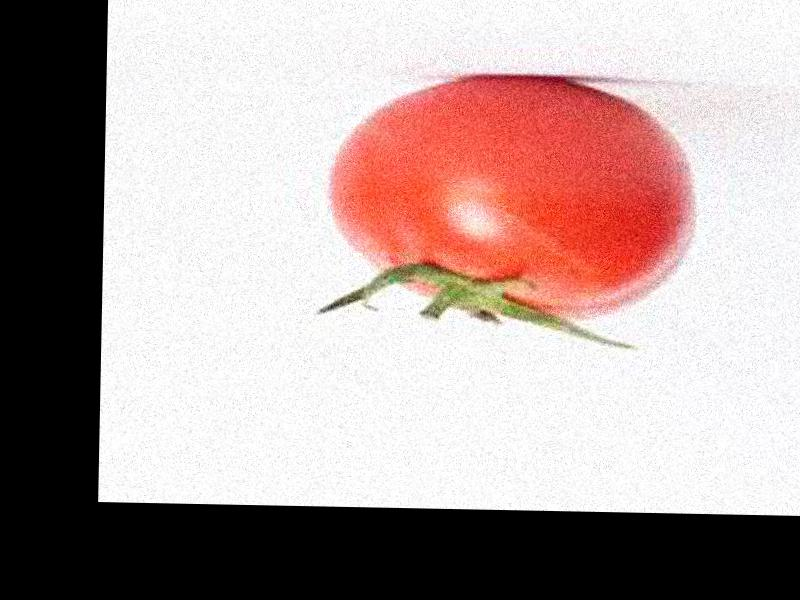Tomato: (328, 70, 702, 319)
